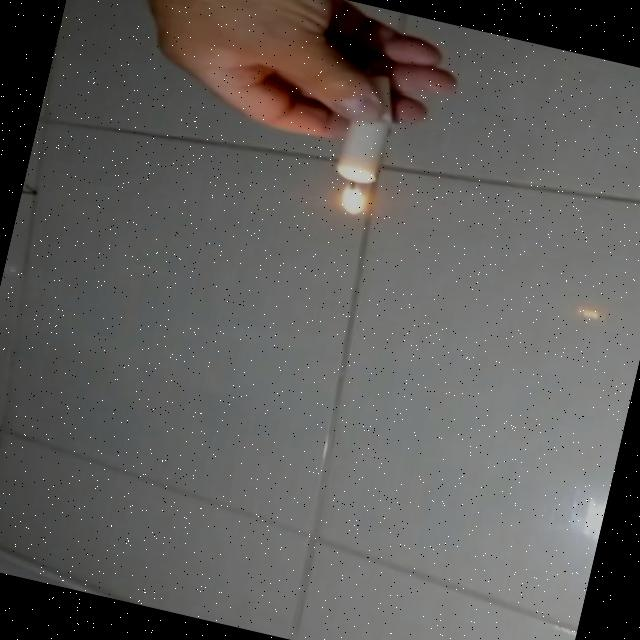fire: (331, 180, 374, 220)
